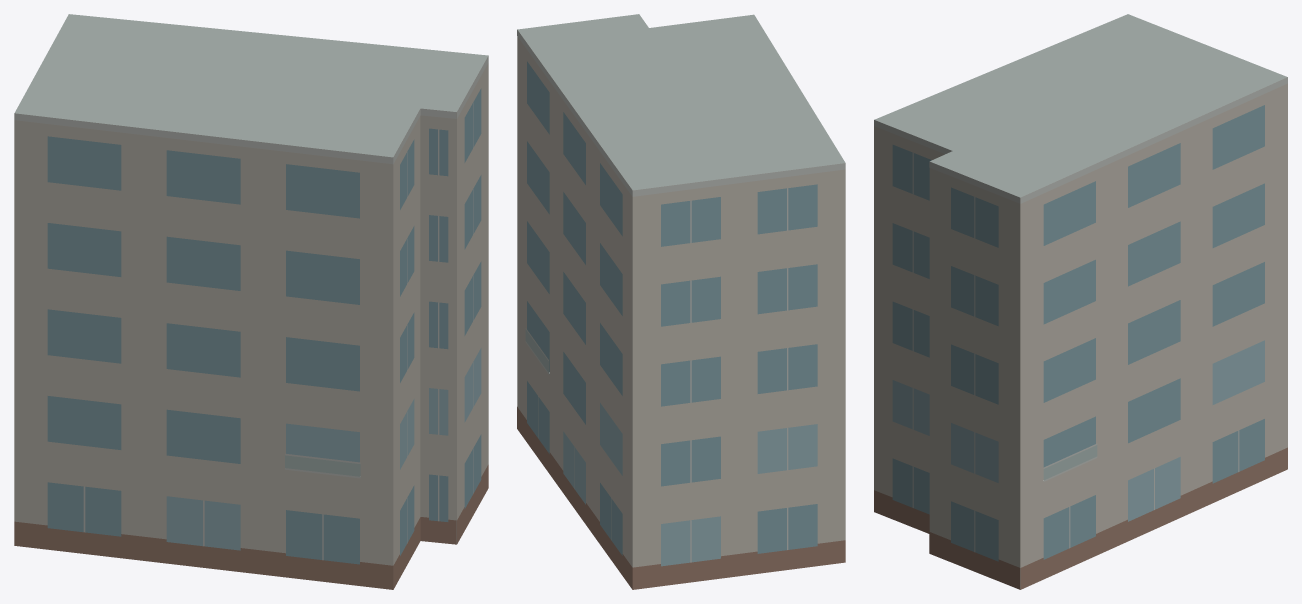
The model's file is survey-upis-32753894.glb.
3 views of the same model, side by side, from view 1: azimuth 30°, elevation 25°; view 2: azimuth 150°, elevation 25°; view 3: azimuth 270°, elevation 25° (orthographic). The views are drawn at different scales.
Visible parts, largest first — view 1: survey-upis-32753894.tmp; view 2: survey-upis-32753894.tmp; view 3: survey-upis-32753894.tmp.
Boxes of the visible parts, <box> form: survey-upis-32753894.tmp: <box>14,14,488,589</box>; survey-upis-32753894.tmp: <box>517,14,845,589</box>; survey-upis-32753894.tmp: <box>874,14,1287,589</box>.
Bounding box in the file's own units: 15.32 × 15.25 × 14.59.
